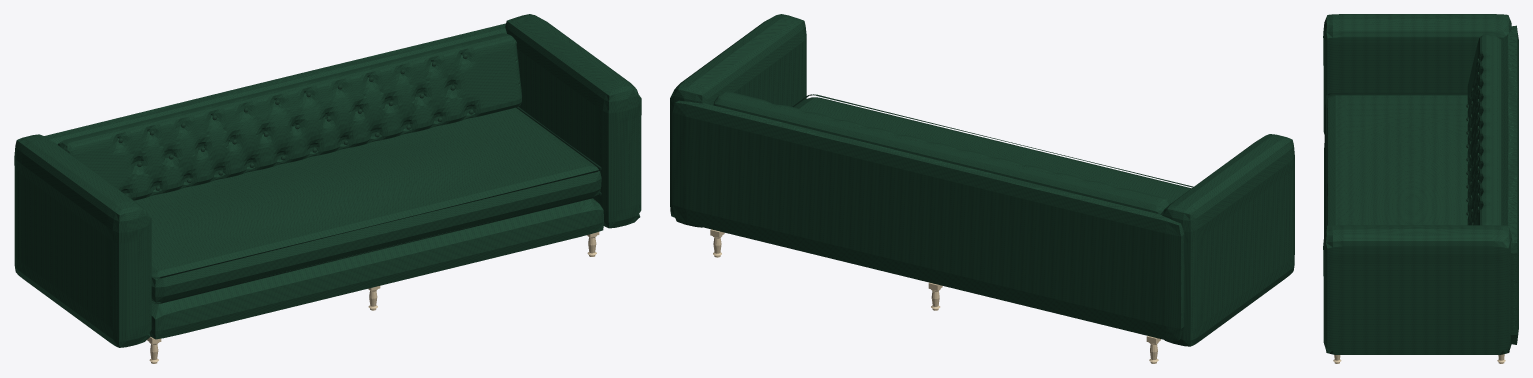
File: BIB-SOF-4-seat.glb
3 views of the same model, side by side, from view 1: azimuth 30°, elevation 25°; view 2: azimuth 150°, elevation 25°; view 3: azimuth 270°, elevation 25° (orthographic). The views are drawn at different scales.
Visible parts, largest first — view 1: seat:fabric:eyJwcmVzZXQiOiJ0YXJ0YW4iLCJ3YXJwIjoiZm9yZXN0Iiwi, inside-back:fabric:eyJwcmVzZXQiOiJ0YXJ0YW4iLCJ3YXJwIjoiZm9yZ, arm-pad-l:fabric:eyJwcmVzZXQiOiJ0YXJ0YW4iLCJ3YXJwIjoiZm9yZXN, deck:fabric:eyJwcmVzZXQiOiJ0YXJ0YW4iLCJ3YXJwIjoiZm9yZXN0Iiwi, arm-pad-r:fabric:eyJwcmVzZXQiOiJ0YXJ0YW4iLCJ3YXJwIjoiZm9yZXN, back-pad:fabric:eyJwcmVzZXQiOiJ0YXJ0YW4iLCJ3YXJwIjoiZm9yZXN0, seat:piping:pbr, inside-back:buttons:pbr; view 2: back-pad:fabric:eyJwcmVzZXQiOiJ0YXJ0YW4iLCJ3YXJwIjoiZm9yZXN0, arm-pad-l:fabric:eyJwcmVzZXQiOiJ0YXJ0YW4iLCJ3YXJwIjoiZm9yZXN, arm-pad-r:fabric:eyJwcmVzZXQiOiJ0YXJ0YW4iLCJ3YXJwIjoiZm9yZXN, inside-back:fabric:eyJwcmVzZXQiOiJ0YXJ0YW4iLCJ3YXJwIjoiZm9yZ, seat:fabric:eyJwcmVzZXQiOiJ0YXJ0YW4iLCJ3YXJwIjoiZm9yZXN0Iiwi, seat:piping:pbr; view 3: arm-pad-r:fabric:eyJwcmVzZXQiOiJ0YXJ0YW4iLCJ3YXJwIjoiZm9yZXN, seat:fabric:eyJwcmVzZXQiOiJ0YXJ0YW4iLCJ3YXJwIjoiZm9yZXN0Iiwi, arm-pad-l:fabric:eyJwcmVzZXQiOiJ0YXJ0YW4iLCJ3YXJwIjoiZm9yZXN, inside-back:fabric:eyJwcmVzZXQiOiJ0YXJ0YW4iLCJ3YXJwIjoiZm9yZ, back-pad:fabric:eyJwcmVzZXQiOiJ0YXJ0YW4iLCJ3YXJwIjoiZm9yZXN0, seat:piping:pbr, inside-back:buttons:pbr.
Part boxes in pixels (<box>): seat:fabric:eyJwcmVzZXQiOiJ0YXJ0YW4iLCJ3YXJwIjoiZm9yZXN0Iiwi: <box>134,107,601,302</box>; inside-back:fabric:eyJwcmVzZXQiOiJ0YXJ0YW4iLCJ3YXJwIjoiZm9yZ: <box>57,33,522,200</box>; arm-pad-l:fabric:eyJwcmVzZXQiOiJ0YXJ0YW4iLCJ3YXJwIjoiZm9yZXN: <box>14,134,151,347</box>; deck:fabric:eyJwcmVzZXQiOiJ0YXJ0YW4iLCJ3YXJwIjoiZm9yZXN0Iiwi: <box>149,198,603,339</box>; arm-pad-r:fabric:eyJwcmVzZXQiOiJ0YXJ0YW4iLCJ3YXJwIjoiZm9yZXN: <box>505,14,641,228</box>; back-pad:fabric:eyJwcmVzZXQiOiJ0YXJ0YW4iLCJ3YXJwIjoiZm9yZXN0: <box>44,23,506,144</box>; seat:piping:pbr: <box>151,106,601,303</box>; inside-back:buttons:pbr: <box>118,54,473,196</box>; back-pad:fabric:eyJwcmVzZXQiOiJ0YXJ0YW4iLCJ3YXJwIjoiZm9yZXN0: <box>672,100,1184,340</box>; arm-pad-l:fabric:eyJwcmVzZXQiOiJ0YXJ0YW4iLCJ3YXJwIjoiZm9yZXN: <box>1160,134,1294,346</box>; arm-pad-r:fabric:eyJwcmVzZXQiOiJ0YXJ0YW4iLCJ3YXJwIjoiZm9yZXN: <box>670,14,806,227</box>; inside-back:fabric:eyJwcmVzZXQiOiJ0YXJ0YW4iLCJ3YXJwIjoiZm9yZ: <box>713,91,1170,214</box>; seat:fabric:eyJwcmVzZXQiOiJ0YXJ0YW4iLCJ3YXJwIjoiZm9yZXN0Iiwi: <box>795,97,1191,203</box>; seat:piping:pbr: <box>792,94,1193,187</box>; arm-pad-r:fabric:eyJwcmVzZXQiOiJ0YXJ0YW4iLCJ3YXJwIjoiZm9yZXN: <box>1323,225,1511,354</box>; seat:fabric:eyJwcmVzZXQiOiJ0YXJ0YW4iLCJ3YXJwIjoiZm9yZXN0Iiwi: <box>1324,95,1468,233</box>; arm-pad-l:fabric:eyJwcmVzZXQiOiJ0YXJ0YW4iLCJ3YXJwIjoiZm9yZXN: <box>1323,14,1511,134</box>; inside-back:fabric:eyJwcmVzZXQiOiJ0YXJ0YW4iLCJ3YXJwIjoiZm9yZ: <box>1467,34,1501,225</box>; back-pad:fabric:eyJwcmVzZXQiOiJ0YXJ0YW4iLCJ3YXJwIjoiZm9yZXN0: <box>1501,25,1518,344</box>; seat:piping:pbr: <box>1326,93,1467,227</box>; inside-back:buttons:pbr: <box>1466,58,1478,225</box>.
Size of the model in its own units: 2.6 by 0.78 by 0.95.
14 materials, 6 textured.
